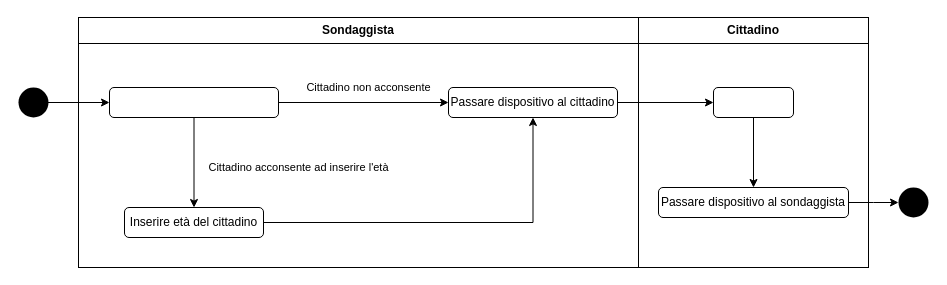
The diagram is 947 pixels wide and 285 high, and some of its shapes have lost their labels. Each missing label, with the centre of its shape:
Inserire quartiere del cittadino: point (193, 102)
Inserire voto: point (753, 102)
